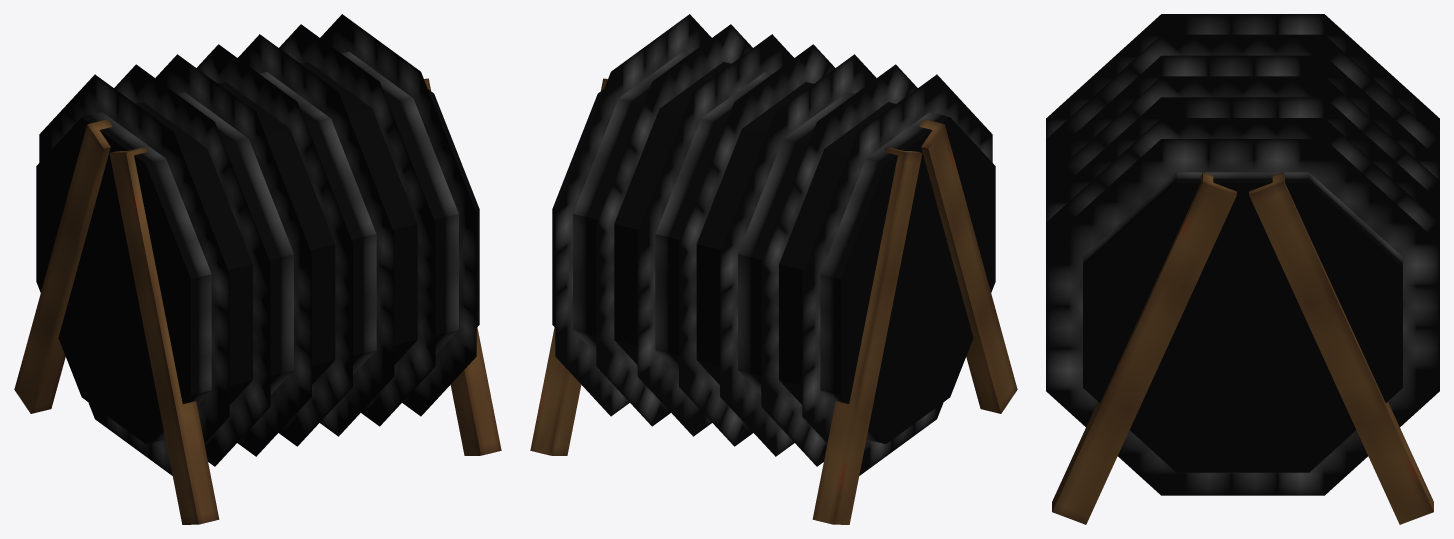
The model's file is barbed_wire.obj.
3 views of the same model, side by side, from view 1: azimuth 30°, elevation 25°; view 2: azimuth 150°, elevation 25°; view 3: azimuth 270°, elevation 25° (orthographic). The views are drawn at different scales.
Visible parts, largest first — view 1: mesh; view 2: mesh; view 3: mesh.
Boxes of the visible parts, box(x1,y1,x2,y2) form: mesh: box(14, 14, 501, 524); mesh: box(530, 14, 1017, 524); mesh: box(1046, 14, 1439, 524).
Size of the model in its own units: 0.9187 by 1.04 by 1.
